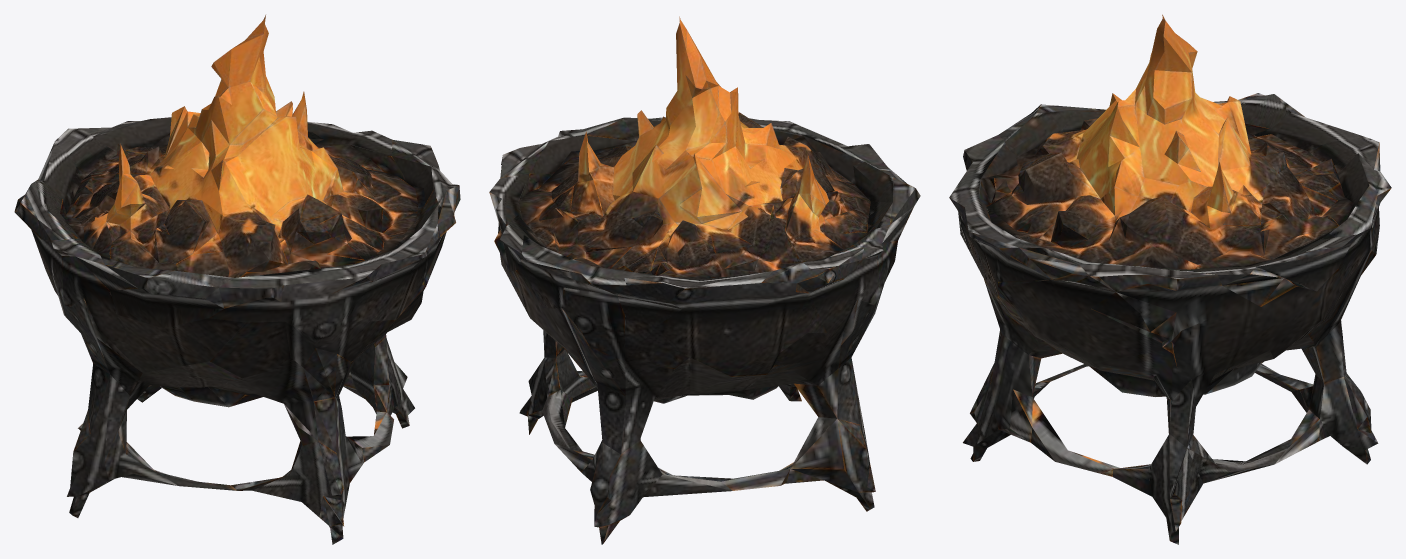
The model's file is war_brazier.glb.
3 views of the same model, side by side, from view 1: azimuth 30°, elevation 25°; view 2: azimuth 150°, elevation 25°; view 3: azimuth 270°, elevation 25° (orthographic). The views are drawn at different scales.
Parts seen in each view (by area): view 1: output_unwrapped; view 2: output_unwrapped; view 3: output_unwrapped.
Part boxes in pixels (bbox=[...]): output_unwrapped: bbox=[14, 15, 460, 544]; output_unwrapped: bbox=[489, 16, 920, 544]; output_unwrapped: bbox=[949, 14, 1391, 544].
Bounding box in the file's own units: 1.53 × 1.74 × 1.51.
1 material, 1 textured.
